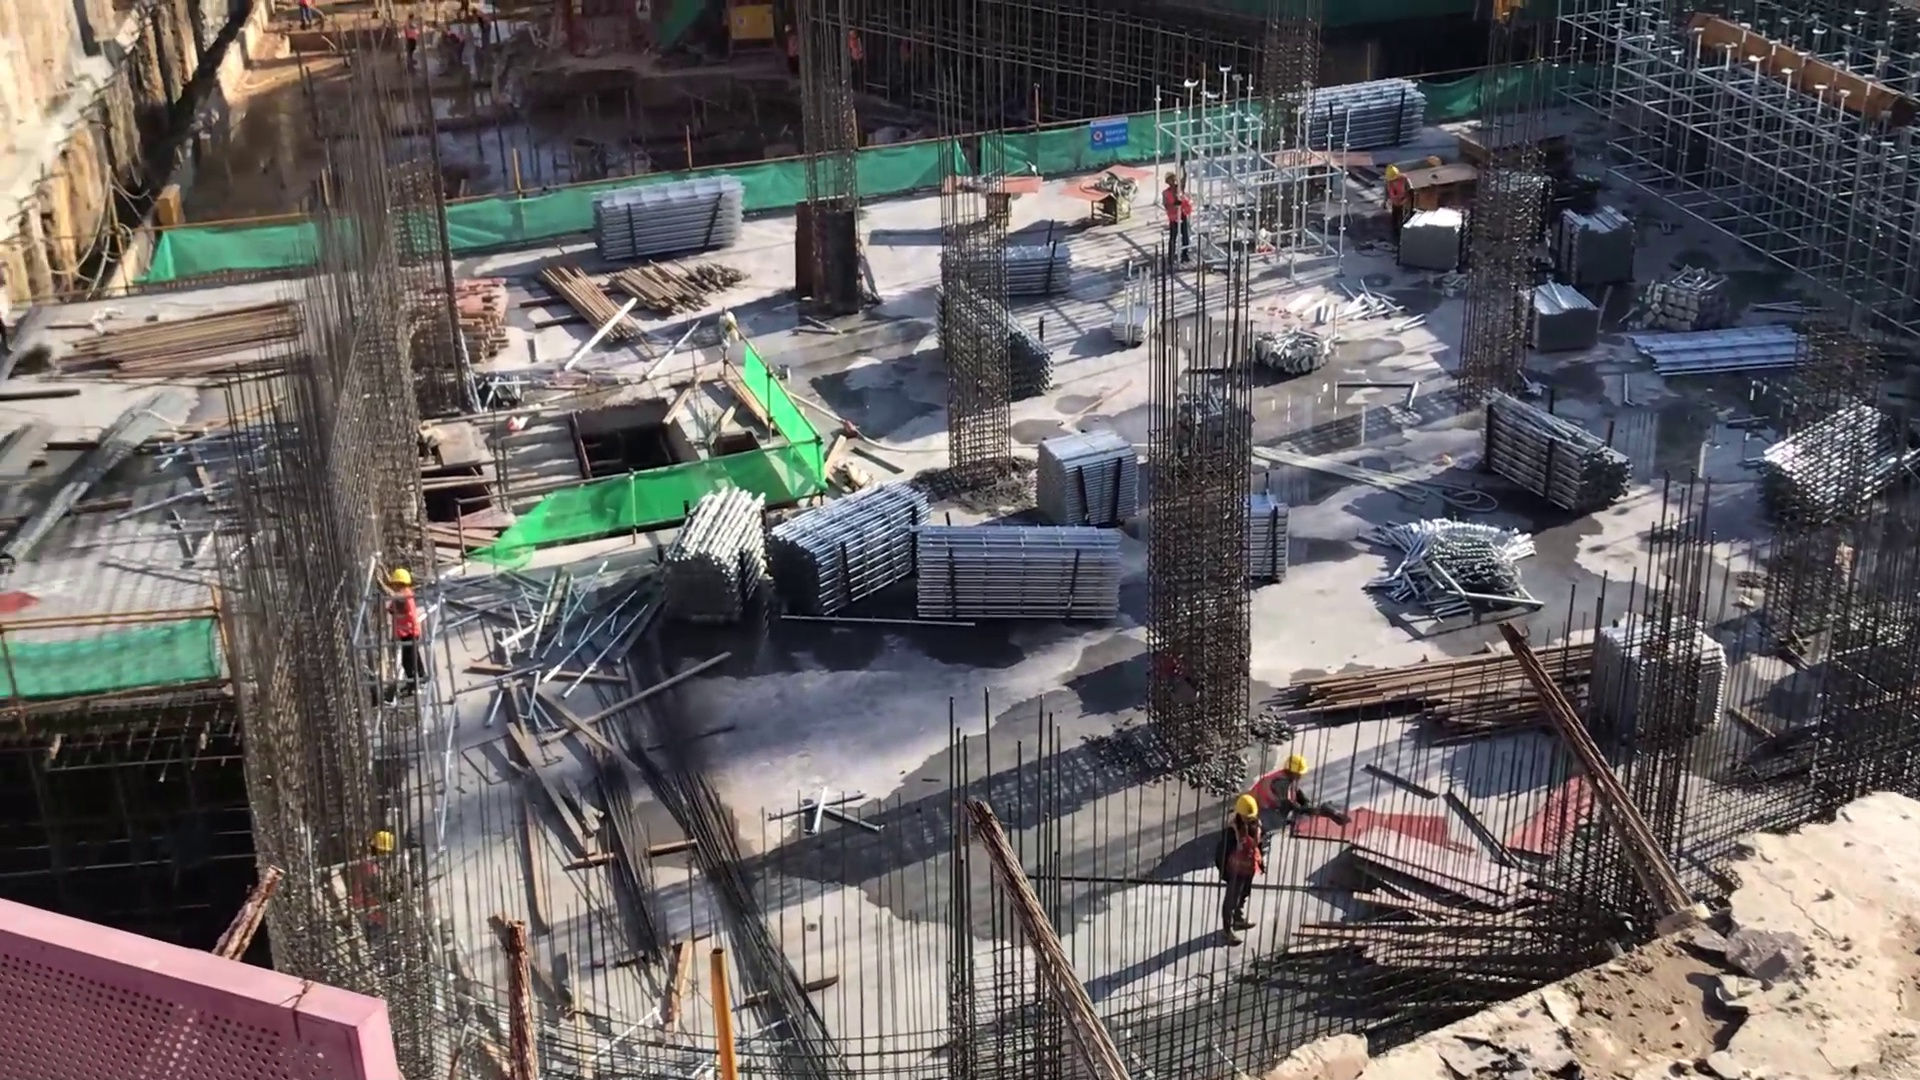cutter: (933, 169, 1047, 227), (1061, 158, 1157, 224)
ebox: (715, 1, 784, 69)
helmet: (1229, 791, 1263, 822), (1280, 750, 1312, 779), (383, 563, 416, 590), (362, 831, 400, 853), (1382, 162, 1405, 186), (1158, 166, 1178, 185)
person: (1202, 788, 1271, 950), (374, 556, 439, 698), (1242, 751, 1316, 852), (346, 826, 409, 939), (1151, 166, 1201, 262), (1374, 159, 1418, 249)
scaffold: (911, 513, 1132, 637), (774, 477, 936, 625), (1472, 384, 1635, 512), (656, 480, 779, 632), (589, 170, 747, 267), (1294, 70, 1431, 153), (1035, 423, 1140, 530), (1563, 198, 1646, 303), (1515, 271, 1608, 356), (1399, 202, 1476, 278), (1004, 242, 1074, 296)
vest: (343, 857, 391, 928), (1213, 817, 1262, 882), (1246, 770, 1303, 814), (385, 587, 425, 644), (1161, 187, 1198, 222), (1387, 176, 1411, 214)
